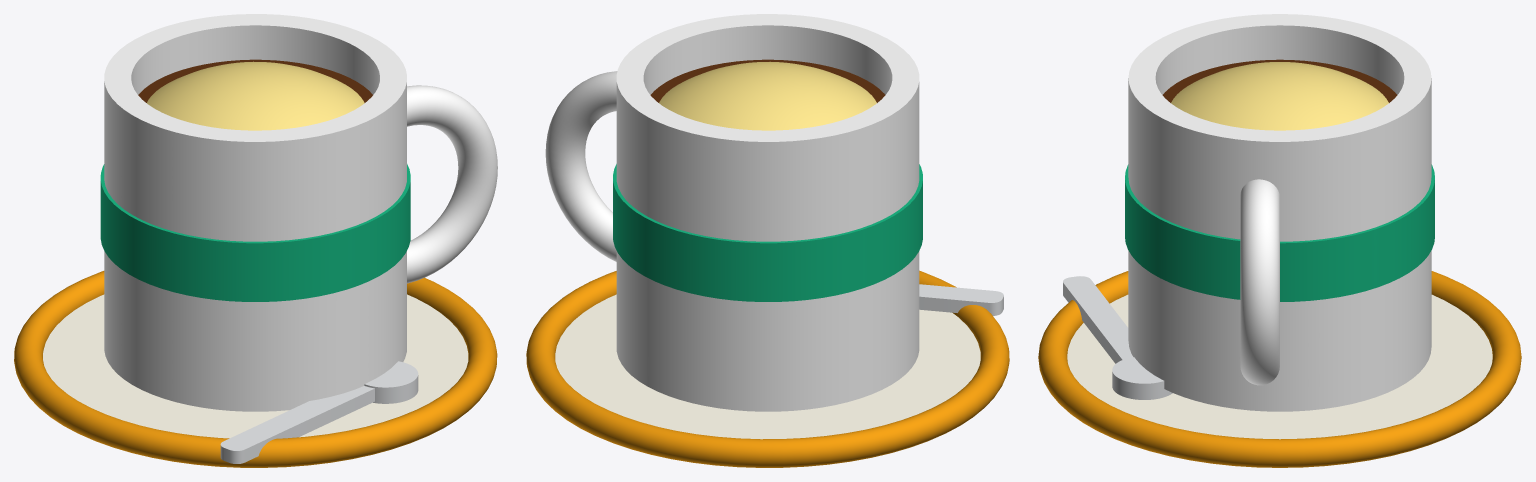
The model's file is coffee_cup.glb.
3 renders of one model, left to right at view 1: azimuth 30°, elevation 25°; view 2: azimuth 150°, elevation 25°; view 3: azimuth 270°, elevation 25°, orthographic.
Visible parts, largest first — view 1: cup_wall, saucer_rim, cup_band, saucer, latte_foam, cup_handle, spoon_h, spoon_b, coffee_fill; view 2: cup_wall, saucer_rim, saucer, cup_band, latte_foam, cup_handle, spoon_h, coffee_fill; view 3: cup_wall, saucer_rim, saucer, cup_band, latte_foam, cup_handle, spoon_h, spoon_b, coffee_fill.
Part boxes in pixels (x1=…): cup_wall: x1=104, y1=14, x2=406, y2=411; saucer_rim: x1=14, y1=271, x2=497, y2=467; cup_band: x1=100, y1=164, x2=410, y2=301; saucer: x1=43, y1=294, x2=468, y2=438; latte_foam: x1=147, y1=61, x2=364, y2=130; cup_handle: x1=407, y1=85, x2=497, y2=283; spoon_h: x1=220, y1=386, x2=374, y2=463; spoon_b: x1=364, y1=361, x2=418, y2=403; coffee_fill: x1=138, y1=59, x2=372, y2=102; cup_wall: x1=616, y1=14, x2=919, y2=411; saucer_rim: x1=526, y1=270, x2=1009, y2=467; saucer: x1=555, y1=294, x2=980, y2=439; cup_band: x1=613, y1=164, x2=922, y2=301; latte_foam: x1=659, y1=61, x2=876, y2=130; cup_handle: x1=545, y1=71, x2=617, y2=261; spoon_h: x1=919, y1=284, x2=1003, y2=315; coffee_fill: x1=650, y1=59, x2=885, y2=102; cup_wall: x1=1128, y1=14, x2=1431, y2=411; saucer_rim: x1=1038, y1=271, x2=1521, y2=467; saucer: x1=1067, y1=294, x2=1492, y2=439; cup_band: x1=1125, y1=164, x2=1434, y2=301; latte_foam: x1=1171, y1=62, x2=1388, y2=130; cup_handle: x1=1240, y1=179, x2=1279, y2=385; spoon_h: x1=1063, y1=276, x2=1132, y2=363; spoon_b: x1=1112, y1=357, x2=1172, y2=399; coffee_fill: x1=1162, y1=59, x2=1397, y2=102.
Bounding box in the file's own units: 0.281 × 0.197 × 0.268.
